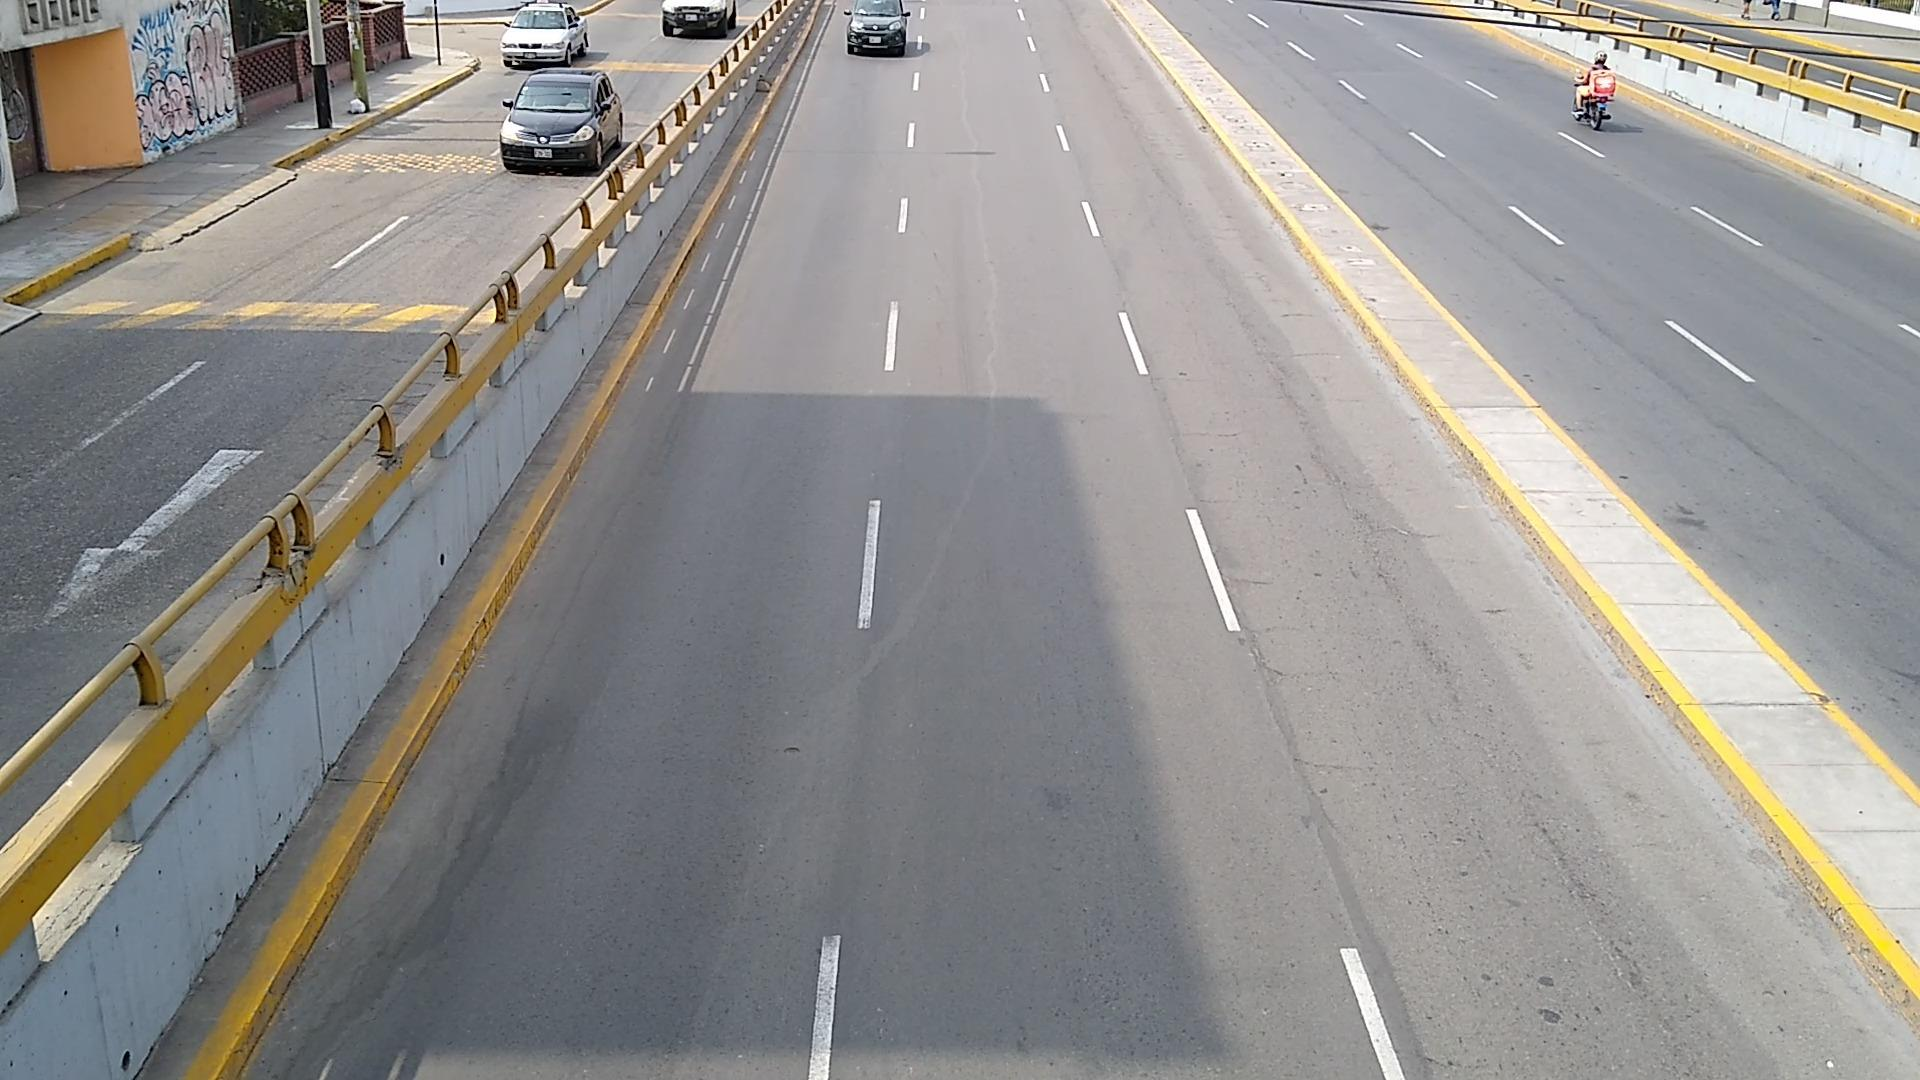car: (498, 67, 622, 169), (502, 0, 588, 67), (848, 0, 907, 57), (659, 0, 738, 36)
motorcyclist: (1575, 53, 1617, 132)
